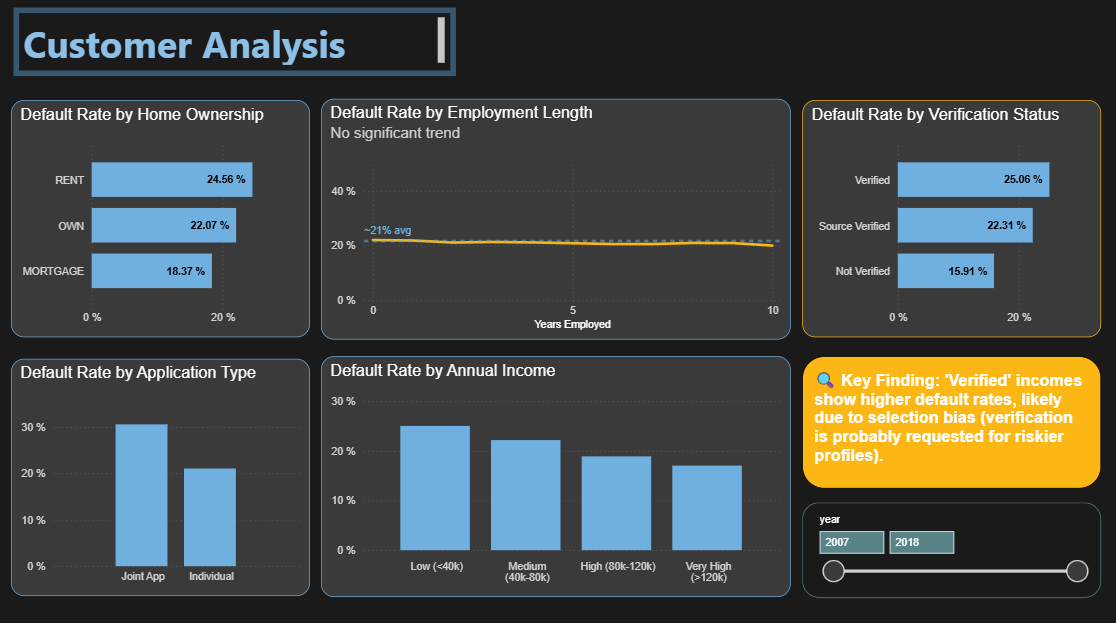

The dashboard page shown, as its layout file describes it:
{"tool":"powerbi","page":{"name":"Customer Analysis","canvas":[1280,720],"ordinal":1},"visuals":[{"type":"textbox","box":[19.3,8.4,505.5,78.4],"z":0},{"type":"barChart","title":"Default Rate by Home Ownership","fields":{"Category":["fact_loans.home_ownership"],"Y":["fact_loans.Default %"]},"box":[17.8,114.9,341.4,271.4],"z":1000},{"type":"lineChart","title":"Default Rate by Employment Length","fields":{"Category":["fact_loans.emp_length"],"Y":["fact_loans.Default %"]},"box":[371.9,113.1,536.7,275],"z":2000},{"type":"clusteredBarChart","title":"Default Rate by Verification Status","fields":{"Category":["fact_loans.verification_status"],"Y":["fact_loans.Default %"]},"box":[921.1,114.9,341.4,271.4],"z":3000},{"type":"clusteredColumnChart","title":"Default Rate by Application Type","fields":{"Category":["fact_loans.application_type"],"Y":["fact_loans.Default %"]},"box":[17.8,410.5,341.4,271.4],"z":4000},{"type":"columnChart","title":"Default Rate by Annual Income","fields":{"Category":["fact_loans.annual_inc_category"],"Y":["fact_loans.Default %"]},"box":[371.9,407.2,536.7,275],"z":5000},{"type":"slicer","fields":{"Values":["dim_date.year"]},"box":[920.8,573.6,341.7,108.4],"z":6000},{"type":"textbox","box":[920.8,407.5,341.7,150.9],"z":7000}]}

Visuals, with their boxes in screenshot pixels (x1, y1, x2, y2), scaled from the page's 1280x720 canvas onto the 1116x623 screenshot:
textbox: detection(17, 7, 458, 75)
"Default Rate by Home Ownership" barChart: detection(16, 99, 313, 334)
"Default Rate by Employment Length" lineChart: detection(324, 98, 792, 336)
"Default Rate by Verification Status" clusteredBarChart: detection(803, 99, 1101, 334)
"Default Rate by Application Type" clusteredColumnChart: detection(16, 355, 313, 590)
"Default Rate by Annual Income" columnChart: detection(324, 352, 792, 590)
slicer - dim_date.year: detection(803, 496, 1101, 590)
textbox: detection(803, 353, 1101, 483)
